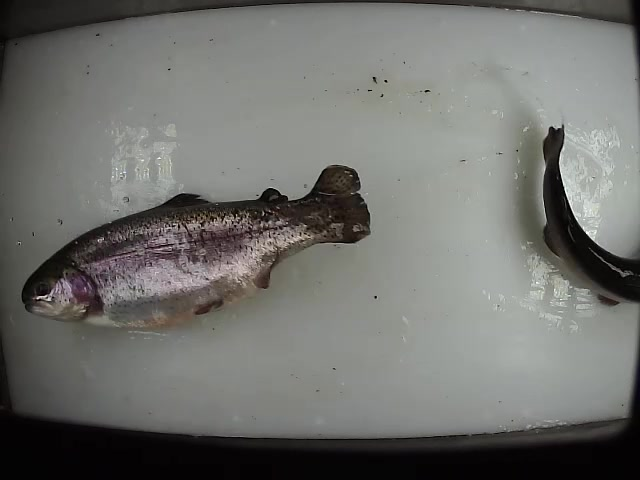fish: (19, 161, 375, 330), (540, 123, 640, 308)
